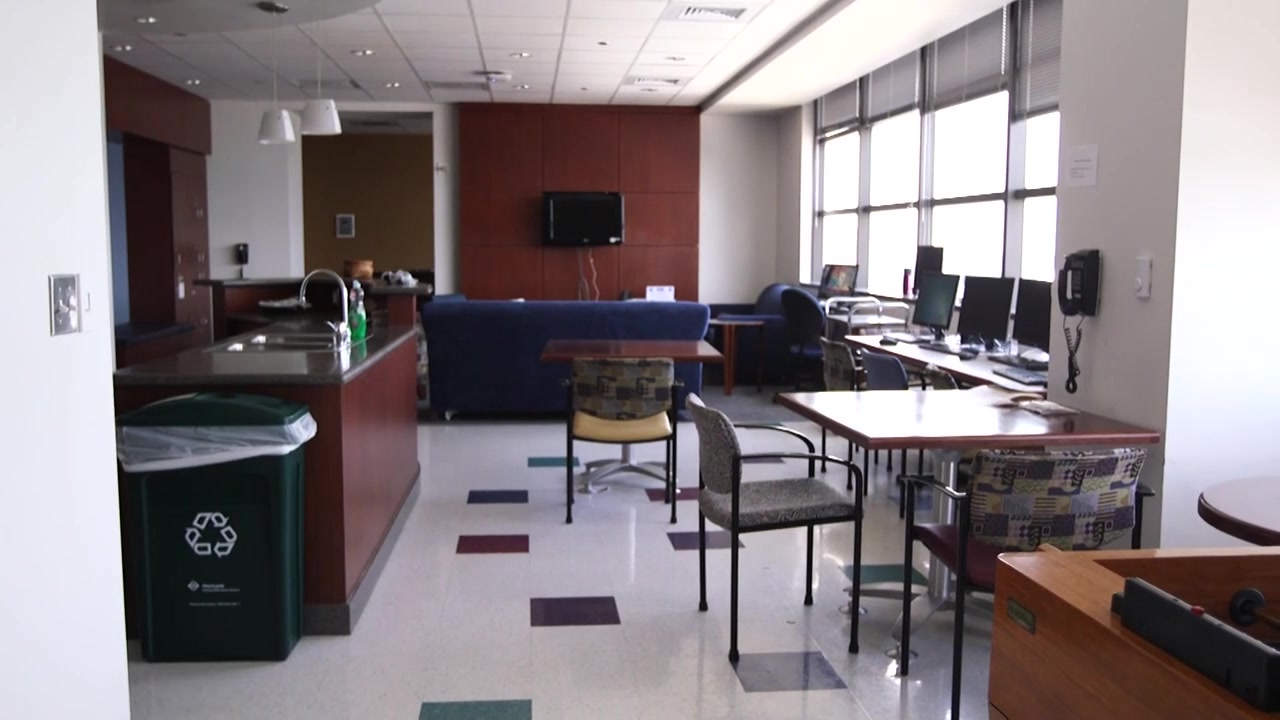TV: (544, 191, 626, 246)
chair: (896, 447, 1154, 720), (685, 392, 862, 662), (566, 357, 677, 525), (779, 288, 825, 390), (858, 347, 910, 390), (818, 337, 860, 389)
computer: (956, 275, 1016, 342), (1013, 277, 1053, 355), (911, 271, 960, 329), (915, 246, 944, 295), (816, 264, 858, 297)
counter: (116, 320, 421, 634)
countertop: (116, 320, 418, 382)
faucet: (299, 269, 351, 340)
keyboard: (995, 366, 1047, 383)
light_switch: (44, 270, 91, 336)
mouse: (959, 351, 978, 361), (879, 337, 899, 346)
sink: (209, 331, 360, 352)
sofa: (421, 294, 709, 421), (714, 283, 798, 382)
table: (774, 391, 1161, 661), (540, 338, 726, 496), (844, 334, 1049, 392), (1197, 470, 1280, 548), (699, 317, 767, 394)
telephone: (1057, 249, 1103, 396), (230, 236, 252, 282)
waste_bin: (115, 388, 319, 661)
